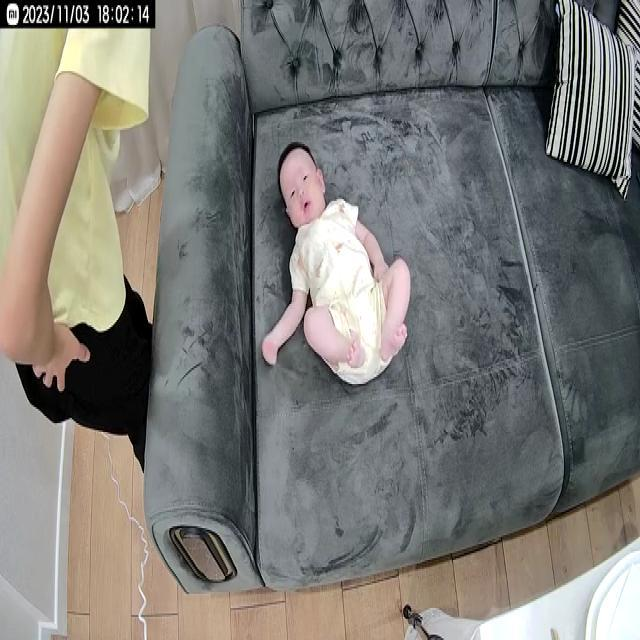baby: (260, 141, 414, 393)
